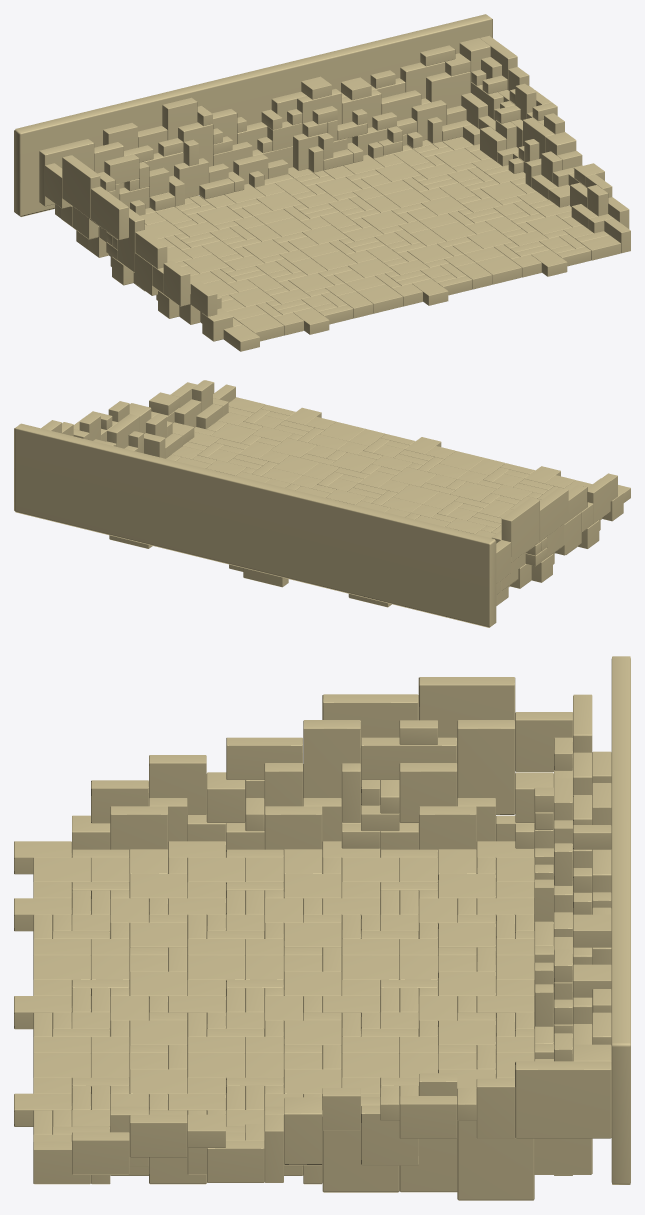
File: field +.fbx
3 renders of one model, top to bottom at view 1: azimuth 30°, elevation 25°; view 2: azimuth 150°, elevation 25°; view 3: azimuth 270°, elevation 25°, orthographic. The views are drawn at different scales.
Visible parts, largest first — view 1: pCube945, pCube930, pCube931, pCube935, pCube953, pCube943, pCube915, pCube374, pCube378, pCube954, pCube357, pCube920 (+69 smaller); view 2: pCube945, pCube930, pCube931, pCube915, pCube988, pCube979, pCube929, pCube920, pCube969, pCube984, pCube767, pCube698 (+40 smaller); view 3: pCube945, pCube1001, pCube996, pCube917, pCube930, pCube916, pCube988, pCube931, pCube909, pCube921, pCube915, pCube929 (+108 smaller).
Boxes of the visible parts, bbox=[...] form: pCube945: bbox=[14, 14, 492, 216]; pCube930: bbox=[62, 155, 100, 218]; pCube931: bbox=[91, 186, 128, 239]; pCube935: bbox=[39, 139, 94, 206]; pCube953: bbox=[426, 72, 470, 108]; pCube943: bbox=[162, 97, 197, 140]; pCube915: bbox=[163, 261, 190, 306]; pCube374: bbox=[178, 122, 213, 166]; pCube378: bbox=[342, 89, 381, 143]; pCube954: bbox=[400, 62, 445, 99]; pCube357: bbox=[174, 158, 208, 198]; pCube920: bbox=[135, 230, 167, 268]; pCube945: bbox=[14, 423, 496, 627]; pCube930: bbox=[501, 498, 539, 562]; pCube931: bbox=[540, 487, 568, 541]; pCube915: bbox=[587, 478, 610, 523]; pCube988: bbox=[107, 414, 139, 448]; pCube979: bbox=[555, 512, 581, 555]; pCube929: bbox=[496, 540, 510, 583]; pCube920: bbox=[565, 485, 587, 523]; pCube969: bbox=[174, 399, 201, 427]; pCube984: bbox=[149, 392, 179, 415]; pCube767: bbox=[450, 481, 496, 501]; pCube698: bbox=[330, 452, 376, 472]; pCube945: bbox=[611, 656, 630, 1184]; pCube1001: bbox=[515, 1061, 611, 1138]; pCube996: bbox=[457, 1120, 534, 1200]; pCube917: bbox=[457, 720, 515, 814]; pCube930: bbox=[418, 677, 515, 737]; pCube916: bbox=[303, 720, 360, 798]; pCube988: bbox=[322, 1097, 399, 1192]; pCube931: bbox=[322, 694, 418, 737]; pCube909: bbox=[399, 763, 457, 823]; pCube921: bbox=[361, 737, 457, 779]; pCube915: bbox=[149, 755, 206, 814]; pCube929: bbox=[515, 712, 572, 771].
Size of the model in its own units: 1434 by 289 by 960.
